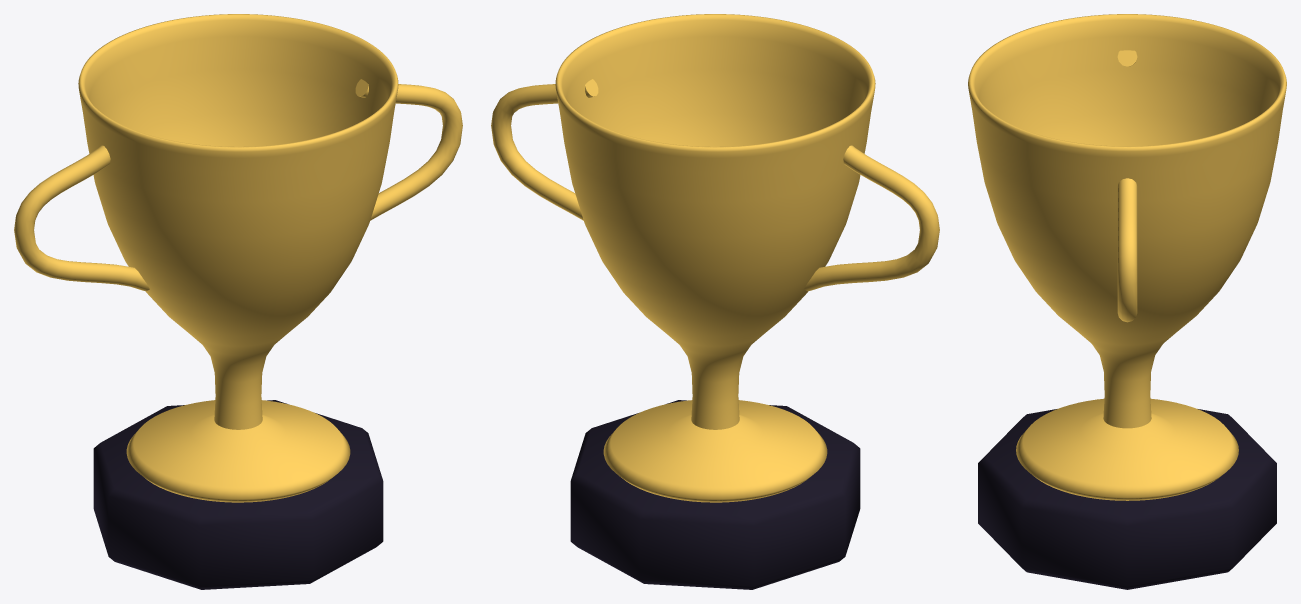
Rendered from trophy.glb.
3 views of the same model, side by side, from view 1: azimuth 30°, elevation 25°; view 2: azimuth 150°, elevation 25°; view 3: azimuth 270°, elevation 25° (orthographic).
Visible parts, largest first — view 1: cup, plinth, foot, handle, handle.001; view 2: cup, plinth, foot, handle, handle.001; view 3: cup, plinth, foot, handle.001.
Boxes of the visible parts, box(x1,y1,x2,y2) form: cup: box(78, 14, 398, 429); plinth: box(93, 400, 383, 589); foot: box(126, 400, 350, 502); handle: box(14, 145, 149, 291); handle.001: box(355, 79, 462, 220); cup: box(555, 14, 875, 429); plinth: box(570, 400, 860, 589); foot: box(603, 400, 827, 502); handle: box(804, 145, 939, 291); handle.001: box(491, 79, 598, 220); cup: box(968, 14, 1286, 428); plinth: box(978, 409, 1276, 589); foot: box(1016, 398, 1238, 500); handle.001: box(1117, 178, 1137, 322).
Size of the model in its own units: 2.16 by 2.09 by 1.34.
